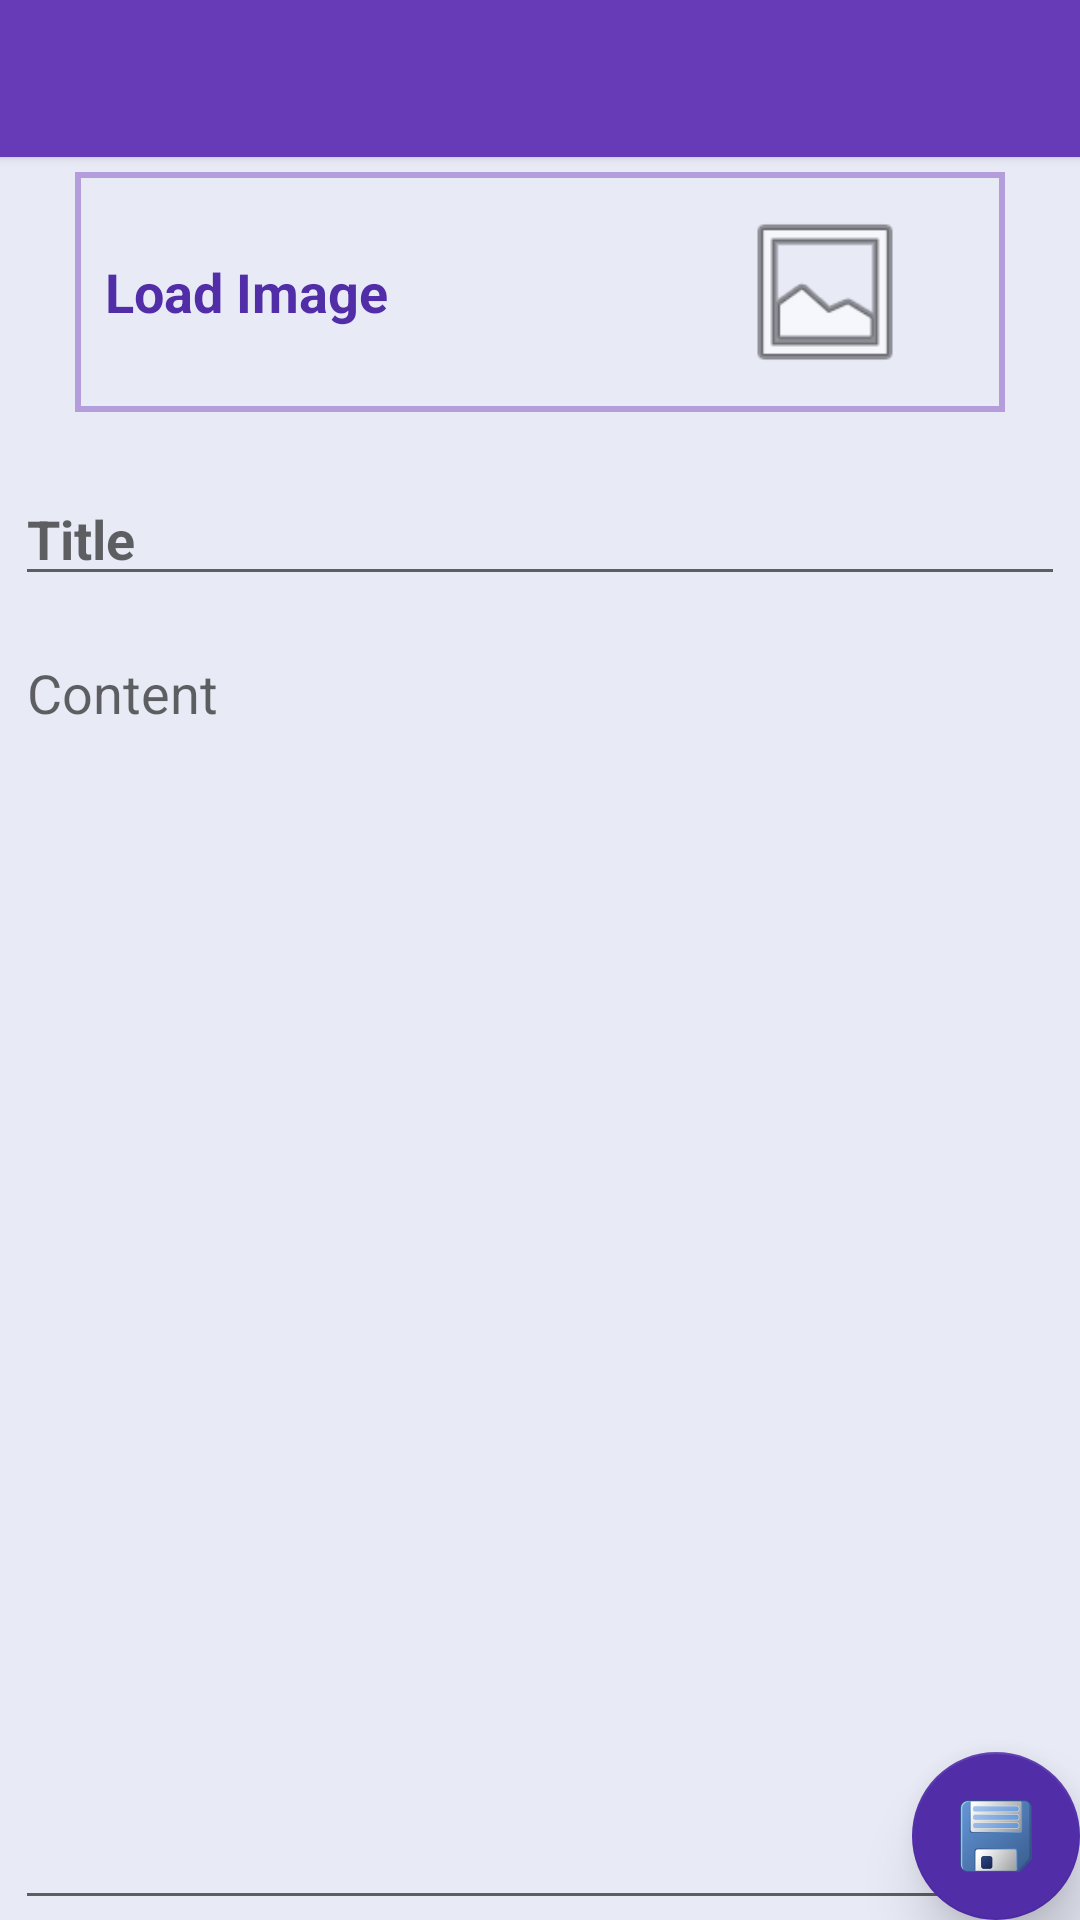

Icons on this 1080px×1920px Android screen, each with its box as (x1, y1, x2, y2):
disk: (912, 1752, 1080, 1920)
gallery: (757, 224, 893, 360)
